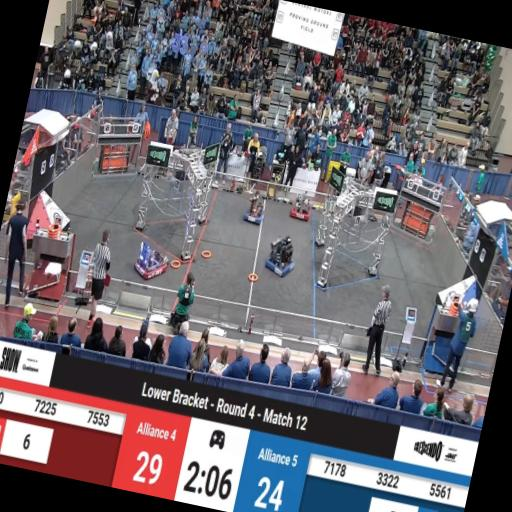robot: (263, 234, 299, 279), (132, 242, 170, 282), (240, 193, 266, 226), (288, 192, 312, 222)
